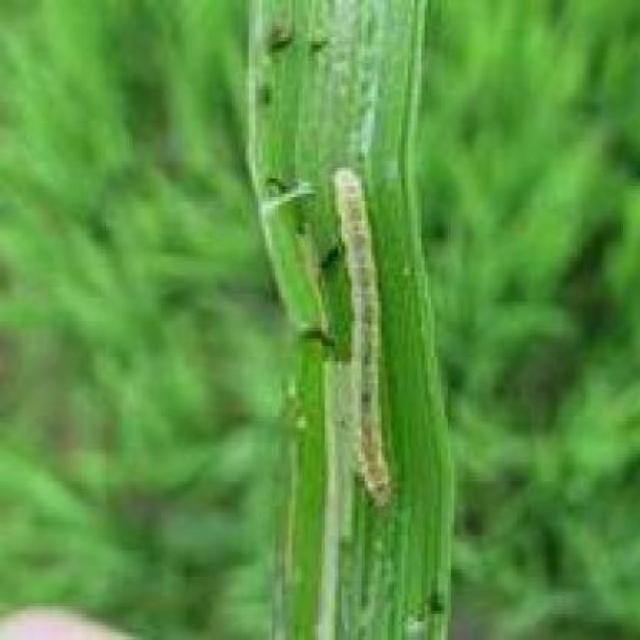leaf-folder: (315, 154, 422, 531)
